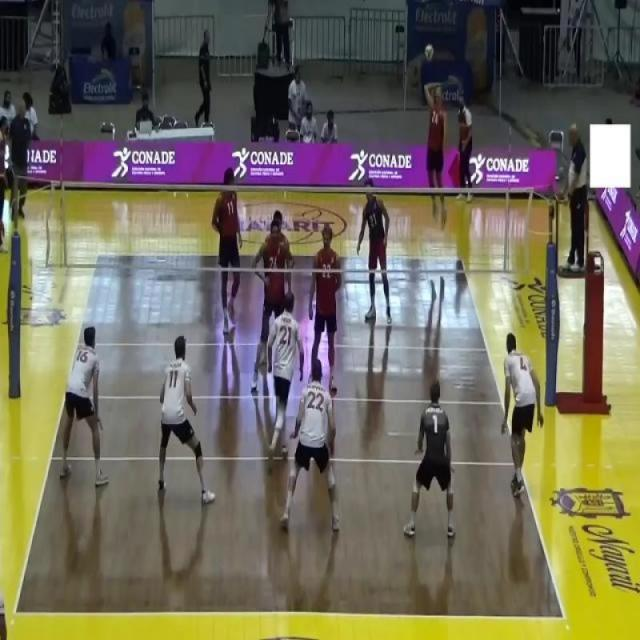volleyball: (424, 44, 435, 62)
